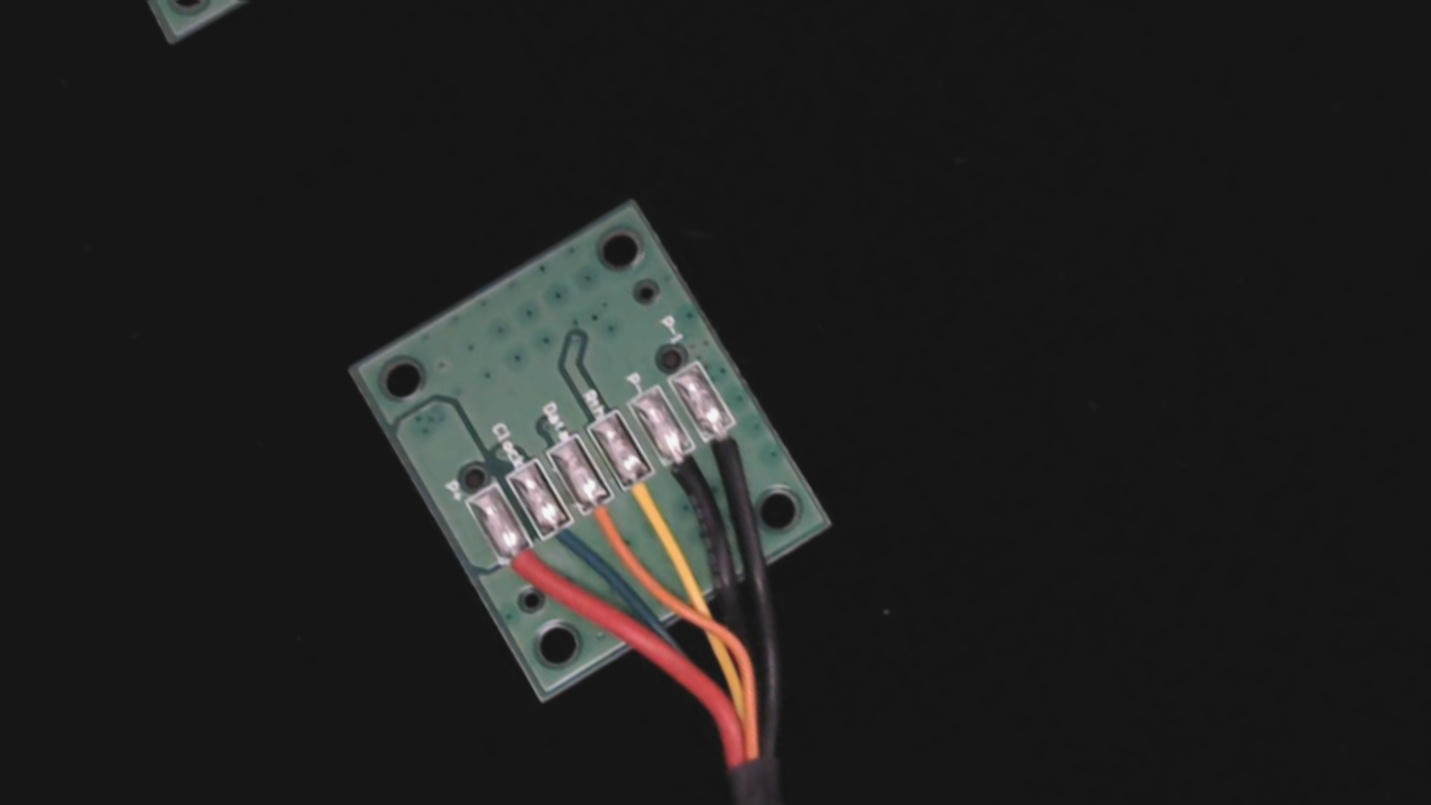Black: (649, 430, 736, 527)
Black1: (690, 399, 773, 489)
Green: (525, 499, 608, 589)
Orange: (567, 478, 653, 574)
Red: (486, 526, 571, 619)
Yellow: (607, 449, 695, 547)
